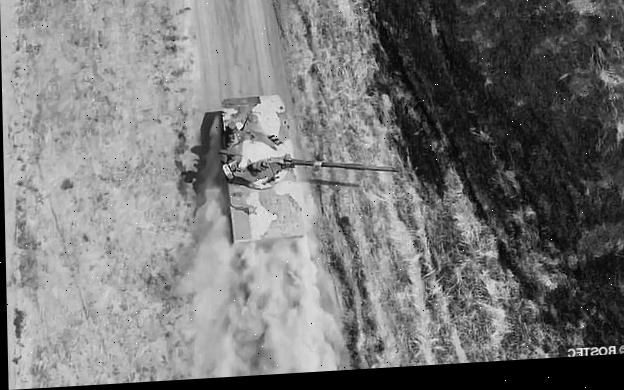tank: (210, 80, 403, 248)
